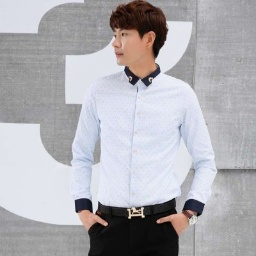face: (109, 1, 167, 68)
